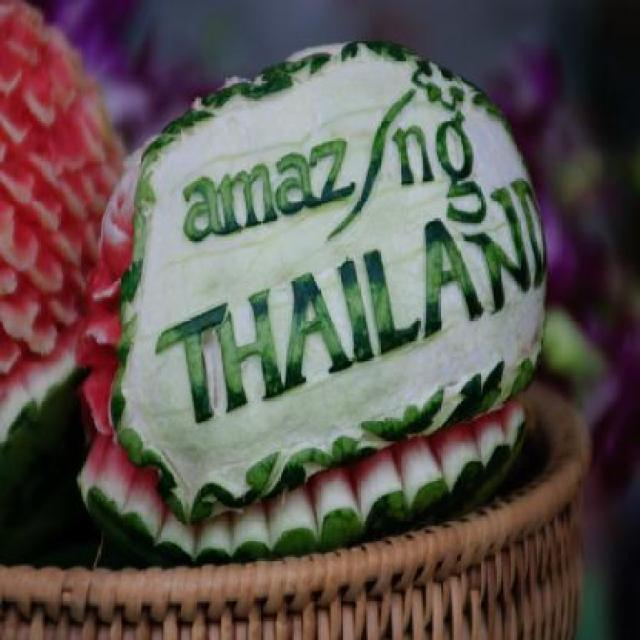Watermelon: (79, 39, 548, 566), (0, 0, 131, 462)
